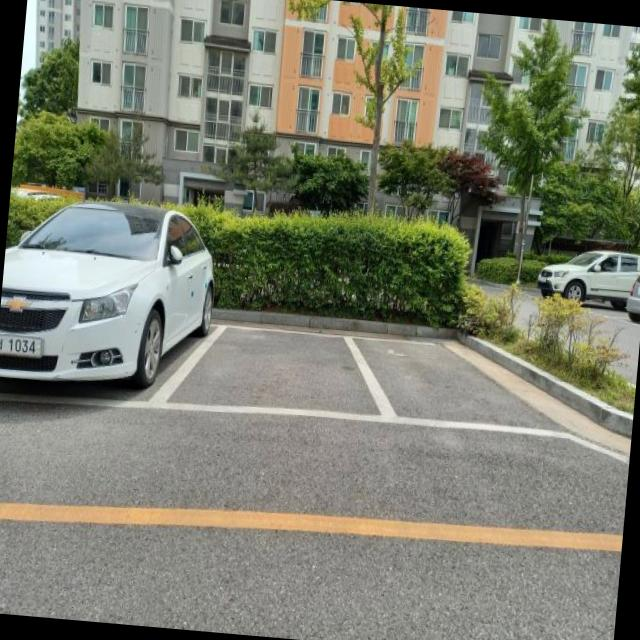car: (0, 201, 216, 387)
free: (157, 322, 392, 422), (353, 332, 568, 432)
